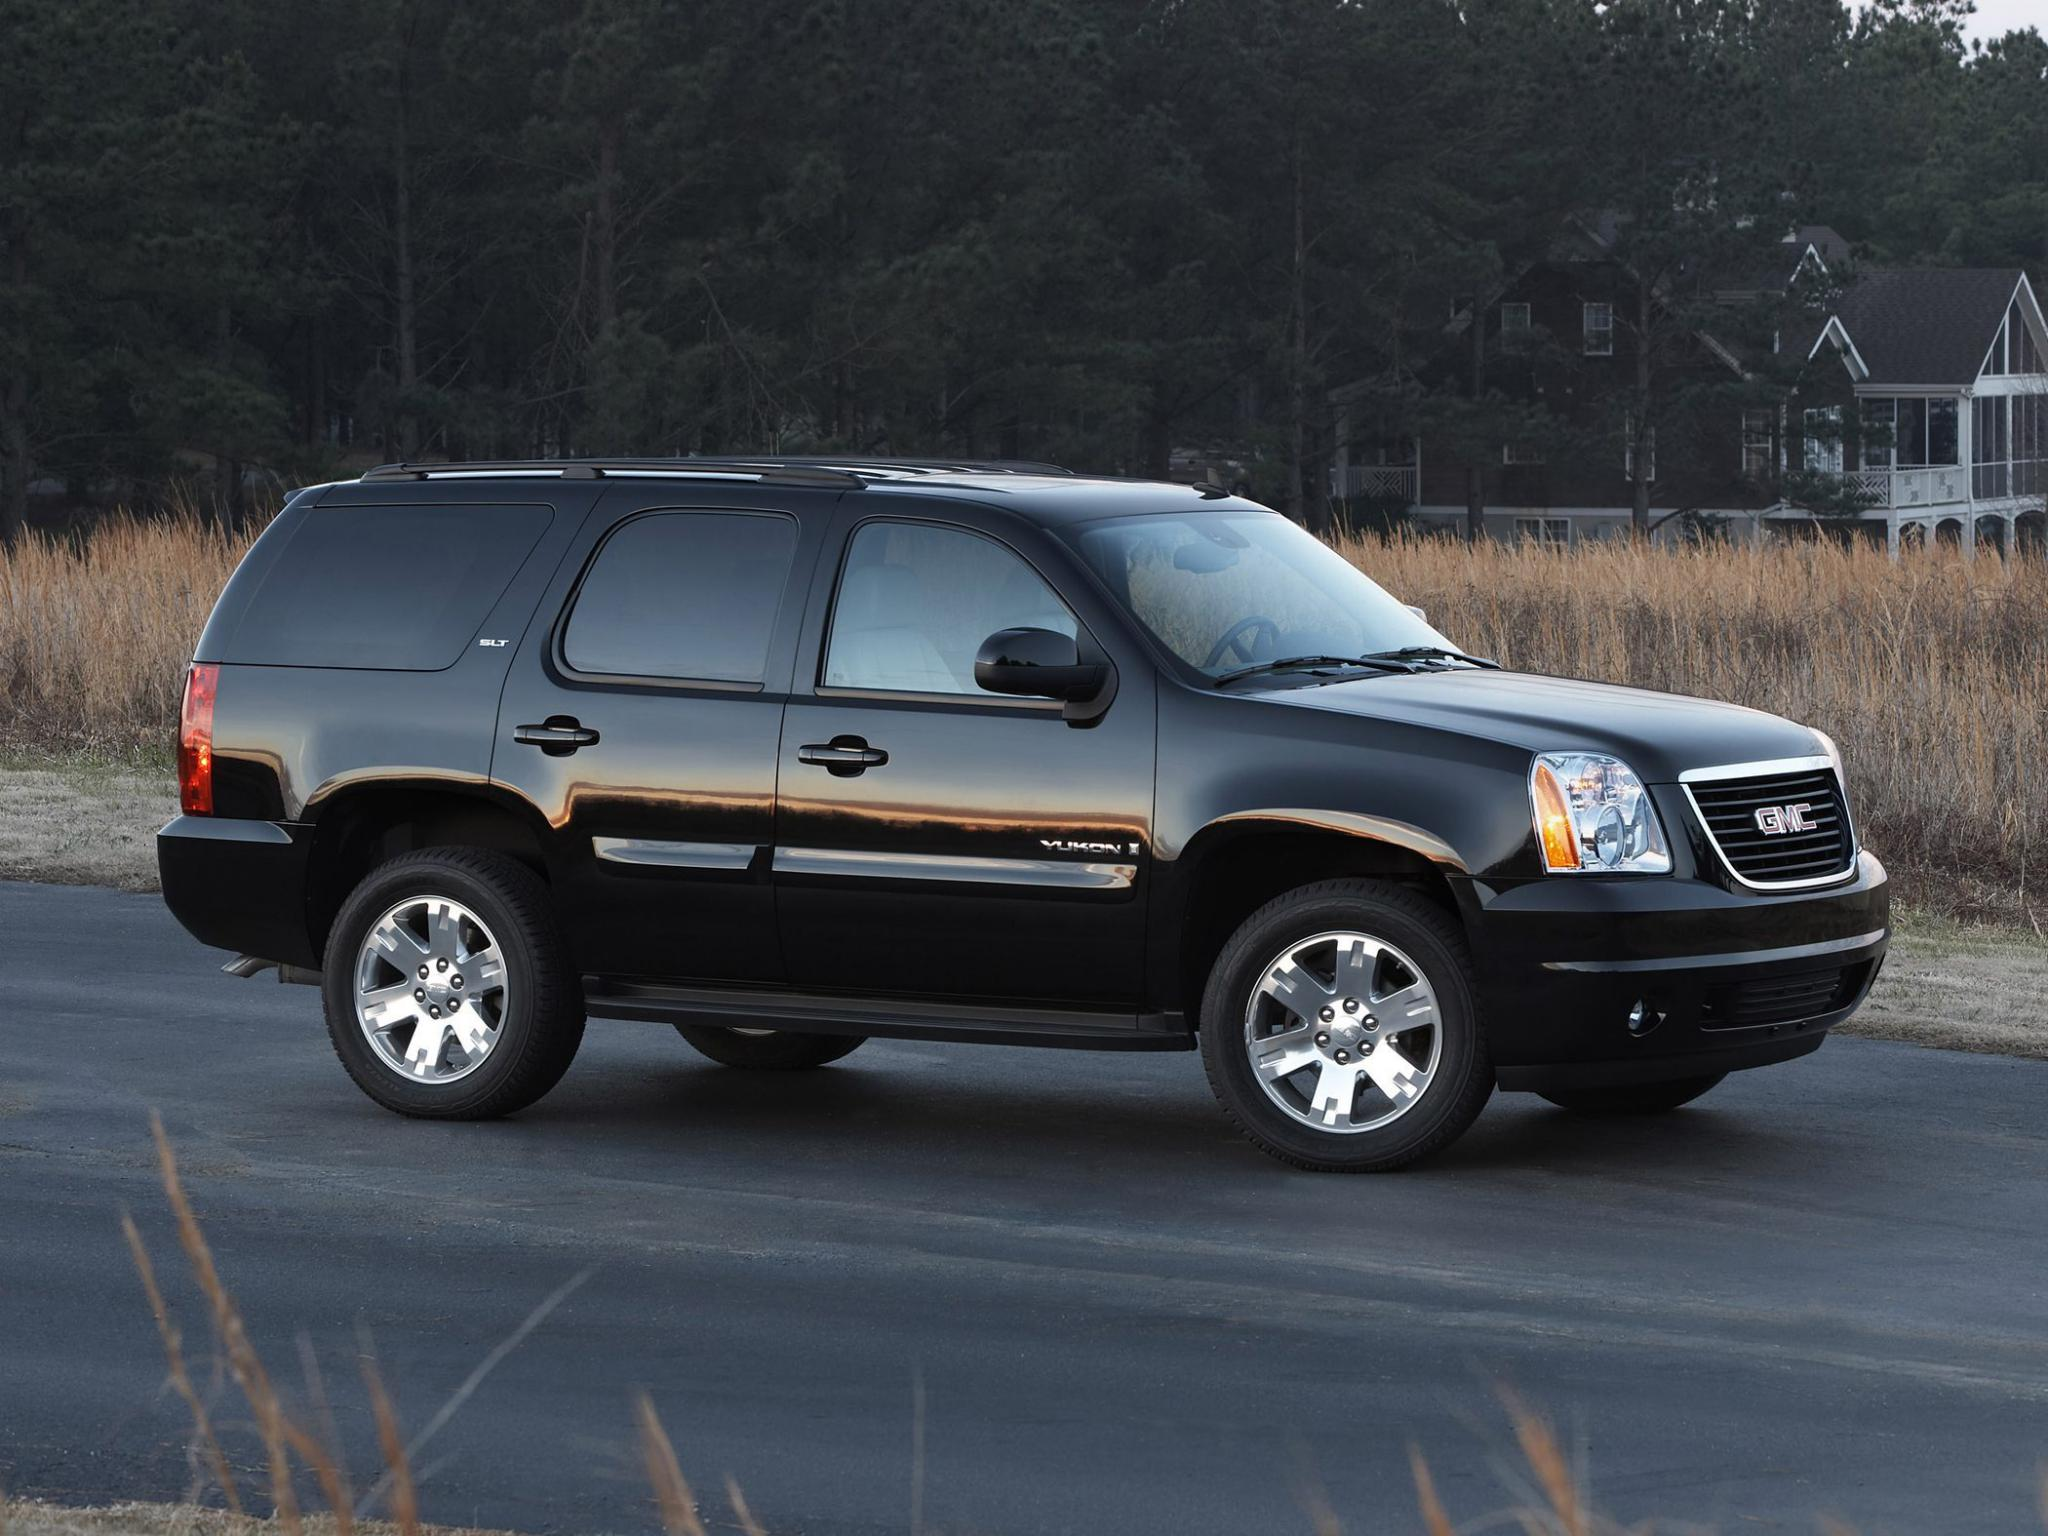Car: (135, 318, 1963, 1239)
